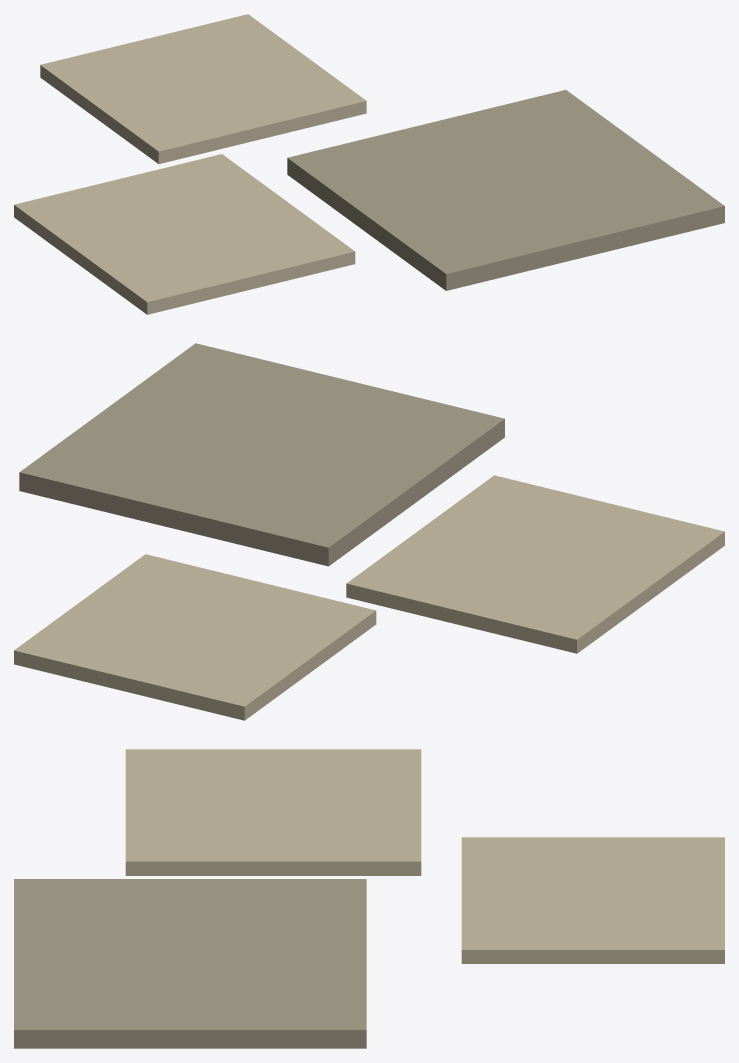
Rendered from fbx_pebbles01.fbx.
3 renders of one model, top to bottom at view 1: azimuth 30°, elevation 25°; view 2: azimuth 150°, elevation 25°; view 3: azimuth 270°, elevation 25°, orthographic. The views are drawn at different scales.
Parts seen in each view (by area): view 1: sm_pebbles01; view 2: sm_pebbles01; view 3: sm_pebbles01.
Part boxes in pixels (x1,y1,x2,y2): sm_pebbles01: (14, 14, 724, 314); sm_pebbles01: (14, 343, 724, 720); sm_pebbles01: (14, 749, 724, 1048).
Bounding box in the file's own units: 45.4 × 1.39 × 47.76.
